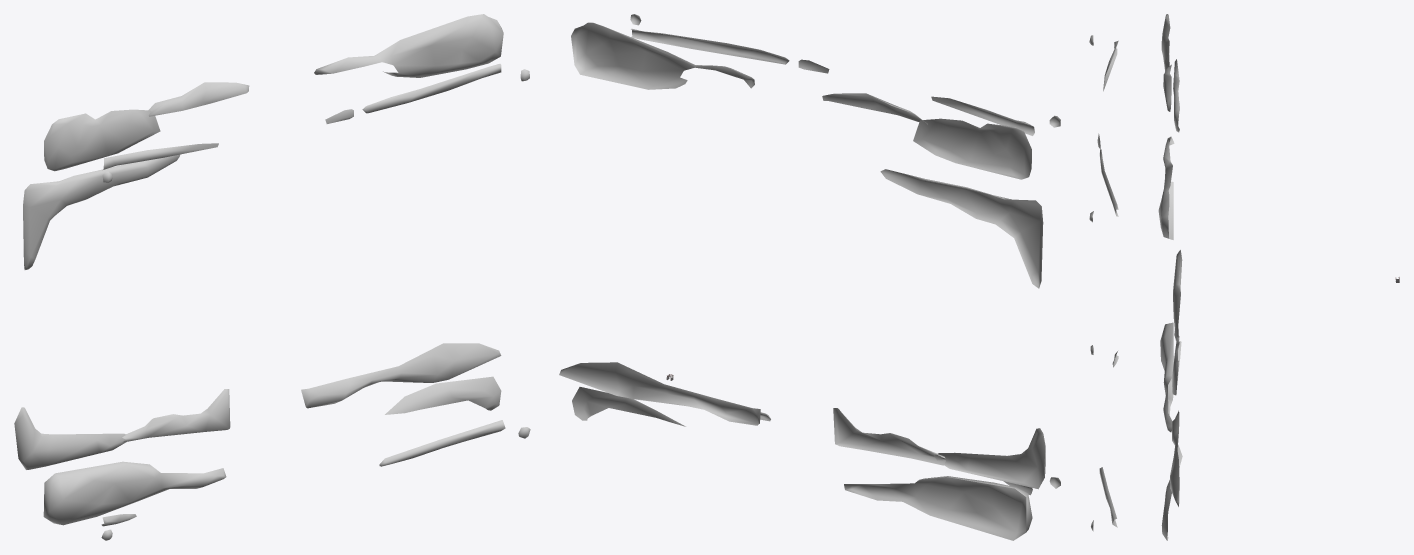
The model's file is pref_sm_city_bridge01_snow_lv3.fbx.
The picture shows the model from 3 angles, left to right: view 1: azimuth 30°, elevation 25°; view 2: azimuth 150°, elevation 25°; view 3: azimuth 270°, elevation 25°; orthographic projection. The views are drawn at different scales.
Visible parts, largest first — view 1: sm_city_bridge01b_snow_lv3; view 2: sm_city_bridge01b_snow_lv3; view 3: sm_city_bridge01b_snow_lv3.
Part boxes in pixels (bbox=[...]): sm_city_bridge01b_snow_lv3: bbox=[14, 14, 530, 540]; sm_city_bridge01b_snow_lv3: bbox=[559, 14, 1060, 540]; sm_city_bridge01b_snow_lv3: bbox=[1089, 14, 1182, 540].
Bounding box in the file's own units: 1116 × 899 × 714.
